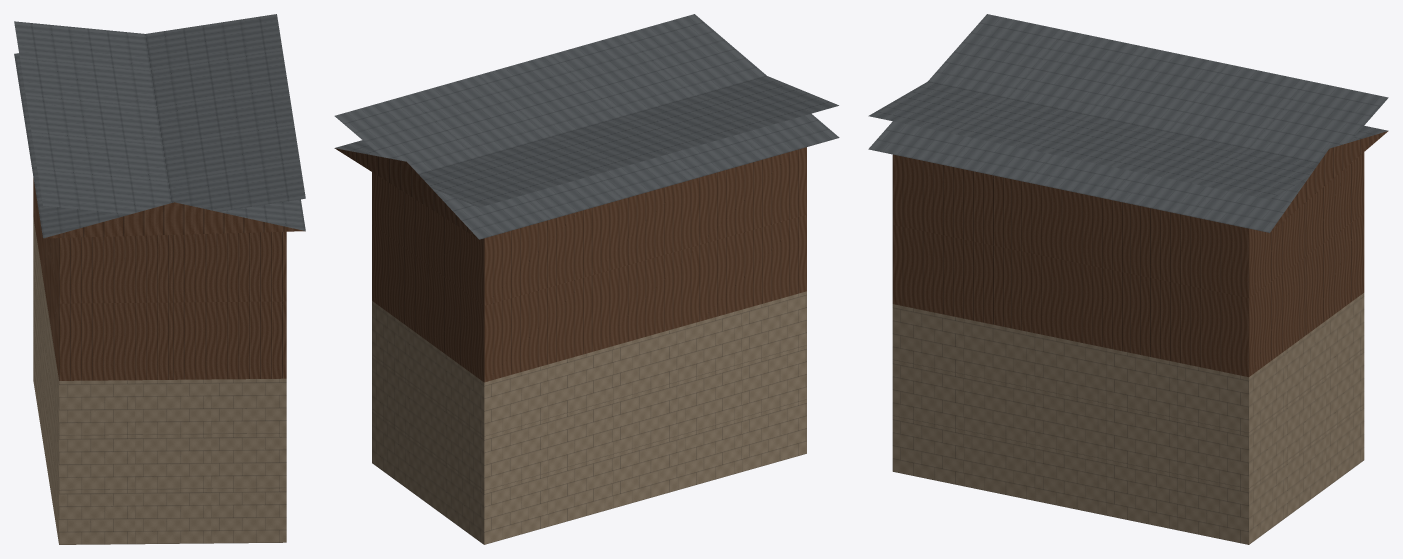
The model's file is bld_c0_10_499.gltf.
The picture shows the model from 3 angles, left to right: view 1: azimuth 30°, elevation 25°; view 2: azimuth 150°, elevation 25°; view 3: azimuth 270°, elevation 25°; orthographic projection. The views are drawn at different scales.
Visible parts, largest first — view 1: bld_c0_10_499; view 2: bld_c0_10_499; view 3: bld_c0_10_499.
Boxes of the visible parts, x1,y1,x2,y2 form: bld_c0_10_499: [14, 14, 305, 544]; bld_c0_10_499: [334, 14, 839, 544]; bld_c0_10_499: [868, 14, 1388, 544].
Bounding box in the file's own units: 11.98 × 10.8 × 14.19.
4 materials, 4 textured.
